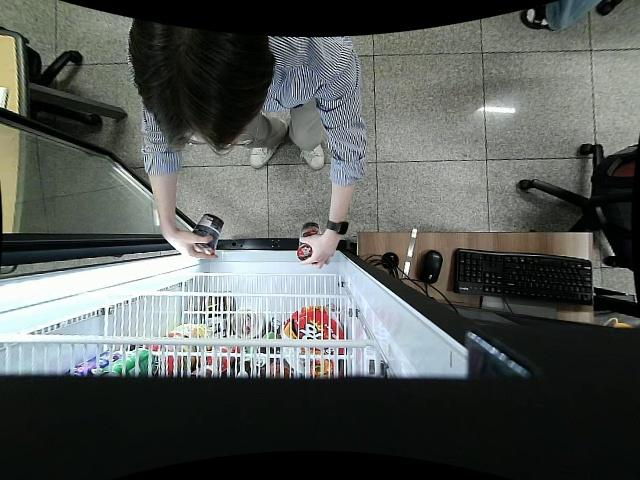00_hand: (163, 229, 219, 261), (297, 234, 335, 272)
08_buldak_S: (190, 212, 223, 255), (297, 222, 324, 264)
